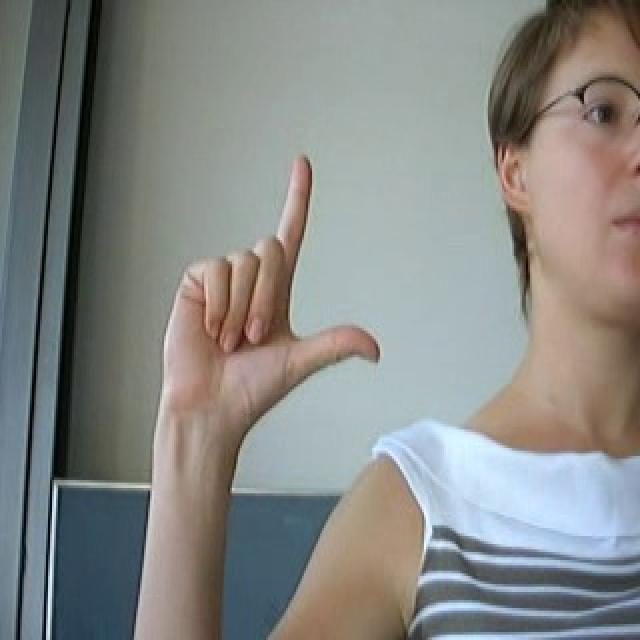L: (142, 137, 384, 425)
